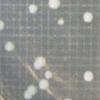white: (3, 40, 17, 53), (81, 11, 95, 24), (36, 78, 50, 91), (34, 55, 47, 68), (26, 83, 39, 96), (82, 69, 94, 83), (47, 0, 62, 10), (55, 16, 66, 27), (28, 4, 39, 14), (31, 61, 42, 71), (44, 69, 54, 80), (22, 90, 32, 100), (0, 18, 6, 34), (61, 96, 74, 100)
